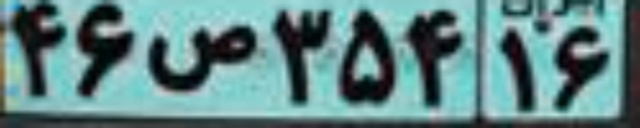1: (496, 26, 536, 109)
3: (268, 8, 329, 104)
4: (406, 8, 464, 106), (12, 1, 60, 98)
5: (336, 10, 399, 103)
6: (69, 4, 135, 101), (546, 22, 611, 109)
saat: (145, 21, 259, 91)
